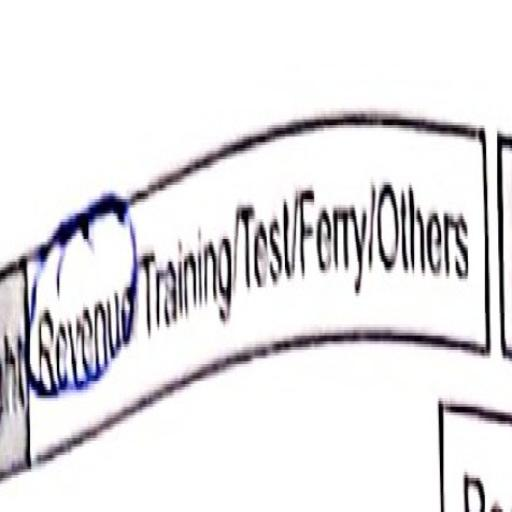check: (14, 164, 145, 440)
